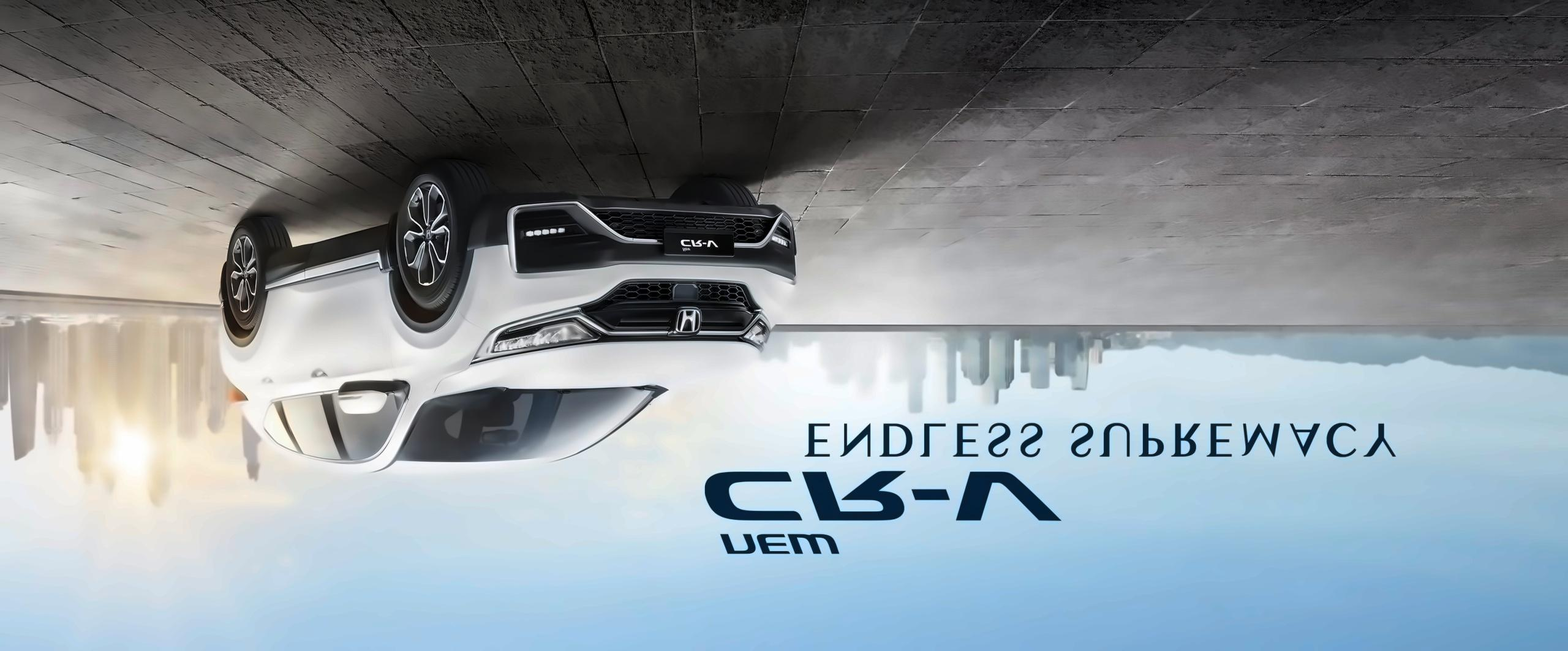Car hood: (439, 330, 764, 409)
Fender - -F-L-: (370, 247, 514, 402)
Front bumper: (450, 196, 805, 342)
Headlight - -L-: (465, 312, 607, 380)
Headlight - -R-: (736, 312, 781, 362)
Passenger-s door - -F-L-: (301, 248, 419, 479)
Passenger-s door - -R-L-: (243, 259, 344, 502)
Rear bumper: (206, 322, 274, 405)
Rear light - -L-: (224, 382, 250, 410)
Side bumper - -L-: (256, 227, 399, 353)
Side mirror - -L-: (333, 379, 392, 418)
